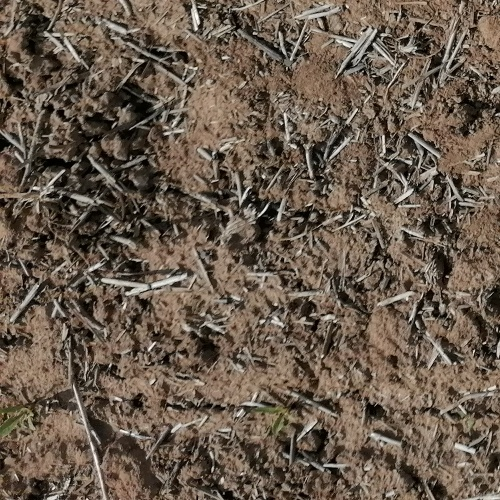beet: (252, 396, 298, 439), (0, 402, 38, 437)
